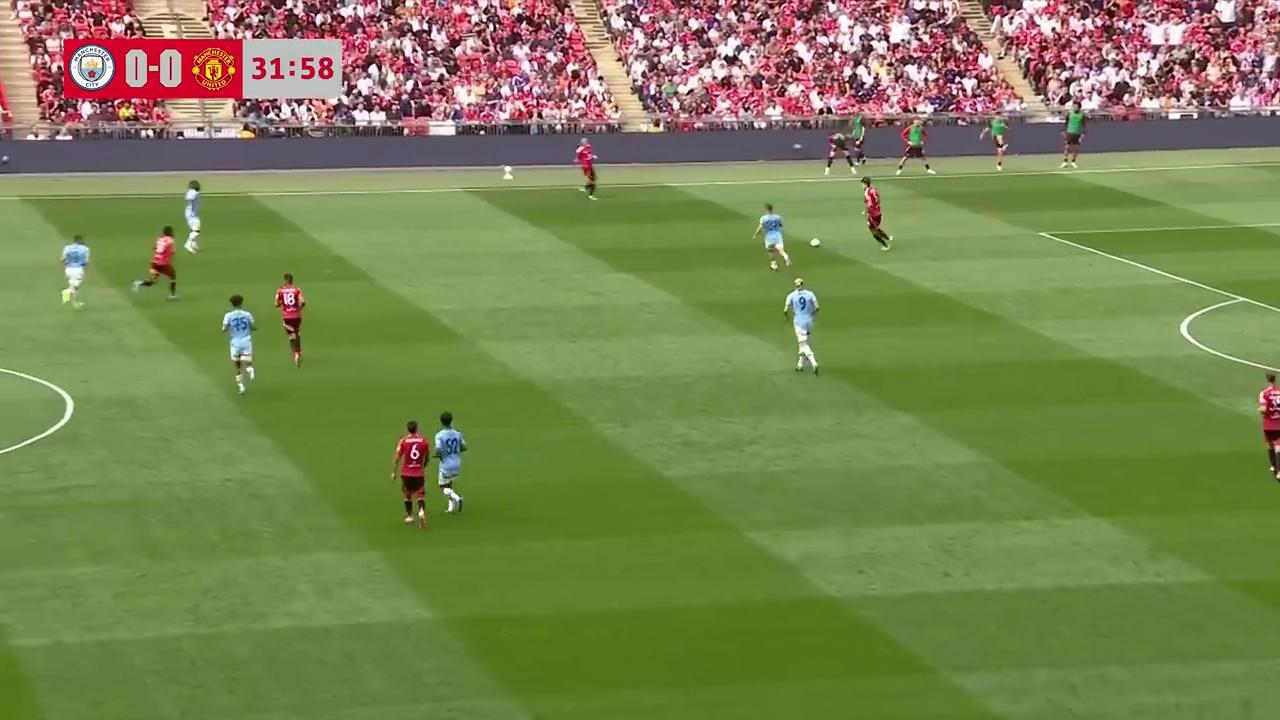ball: (808, 235, 820, 248)
player: (391, 420, 431, 528), (783, 276, 820, 374), (131, 225, 179, 300), (221, 295, 256, 394), (435, 411, 467, 515), (273, 273, 305, 368), (1257, 373, 1280, 482), (753, 203, 790, 270), (59, 232, 90, 307), (861, 179, 892, 250), (183, 180, 202, 253), (576, 146, 598, 200)
